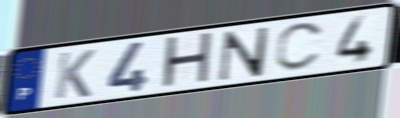4: (105, 39, 154, 95), (334, 14, 376, 64)
C: (272, 20, 328, 74)
H: (159, 30, 215, 92)
K: (52, 47, 98, 101)
N: (215, 25, 272, 83)
